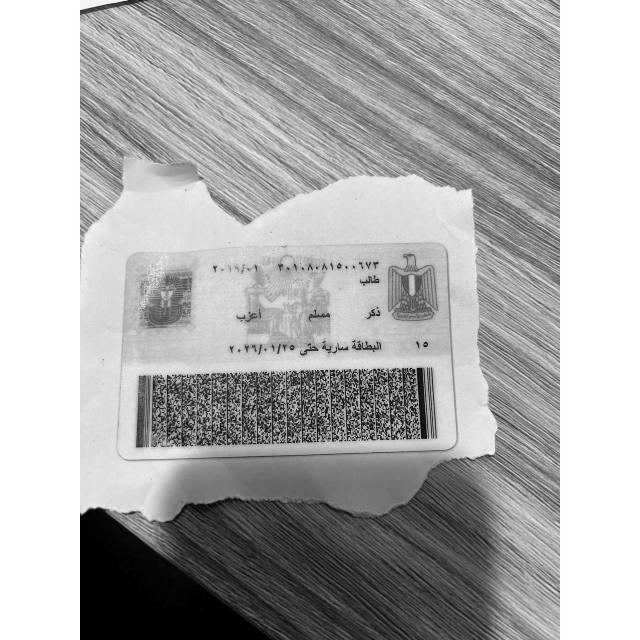back: (89, 243, 461, 459)
